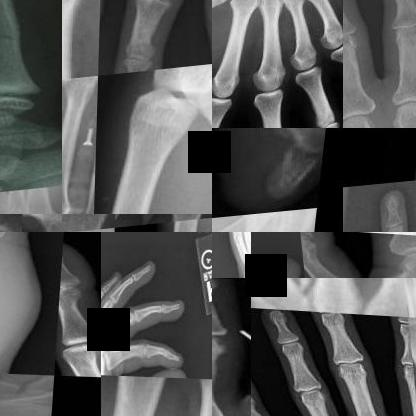fracture: (280, 278, 357, 303), (0, 384, 57, 415), (0, 18, 32, 70), (223, 232, 244, 247), (0, 198, 15, 214), (277, 0, 292, 15)
